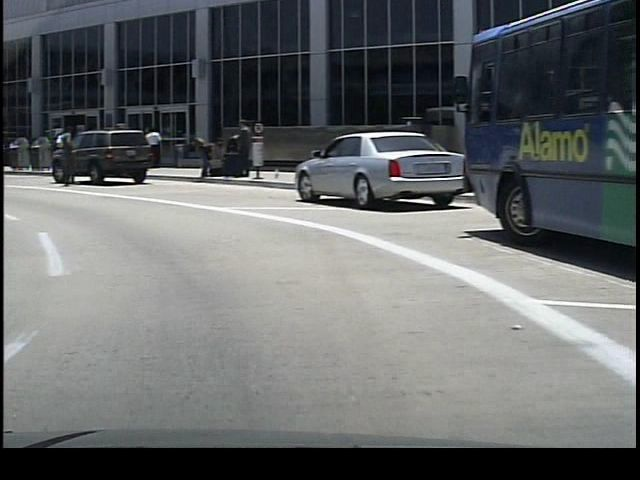person: (52, 117, 80, 195), (190, 131, 219, 185), (228, 120, 248, 180), (139, 127, 161, 171)
